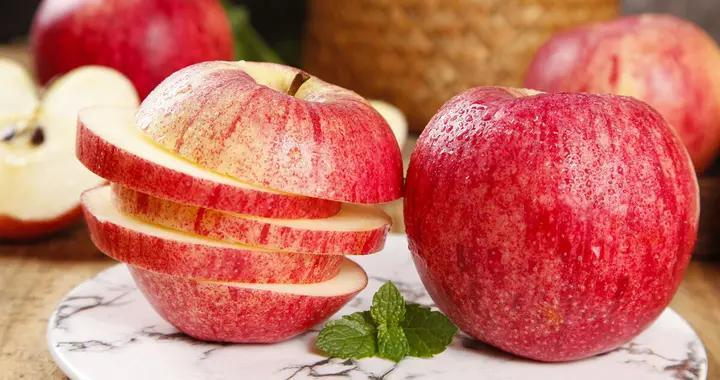apple: (76, 58, 404, 346), (395, 77, 699, 357), (523, 10, 720, 172), (1, 53, 139, 237), (30, 2, 241, 91)
